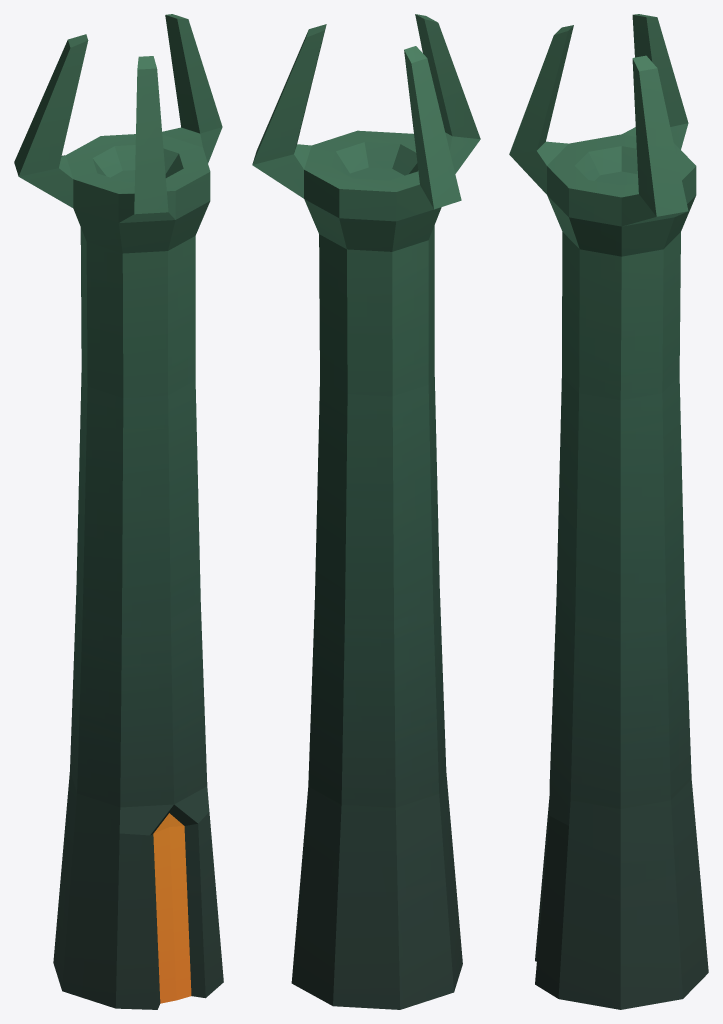
Rendered from SM_Tower_02.fbx.
3 renders of one model, left to right at view 1: azimuth 30°, elevation 25°; view 2: azimuth 150°, elevation 25°; view 3: azimuth 270°, elevation 25°, orthographic.
Parts seen in each view (by area): view 1: SM_Tower_02; view 2: SM_Tower_02; view 3: SM_Tower_02.
Boxes of the visible parts, x1,y1,x2,y2 form: SM_Tower_02: (14, 14, 223, 1009); SM_Tower_02: (252, 14, 480, 1009); SM_Tower_02: (509, 14, 708, 1009).
Size of the model in its own units: 615 by 2703 by 522.
Materials: 1 (1 with a texture image).
